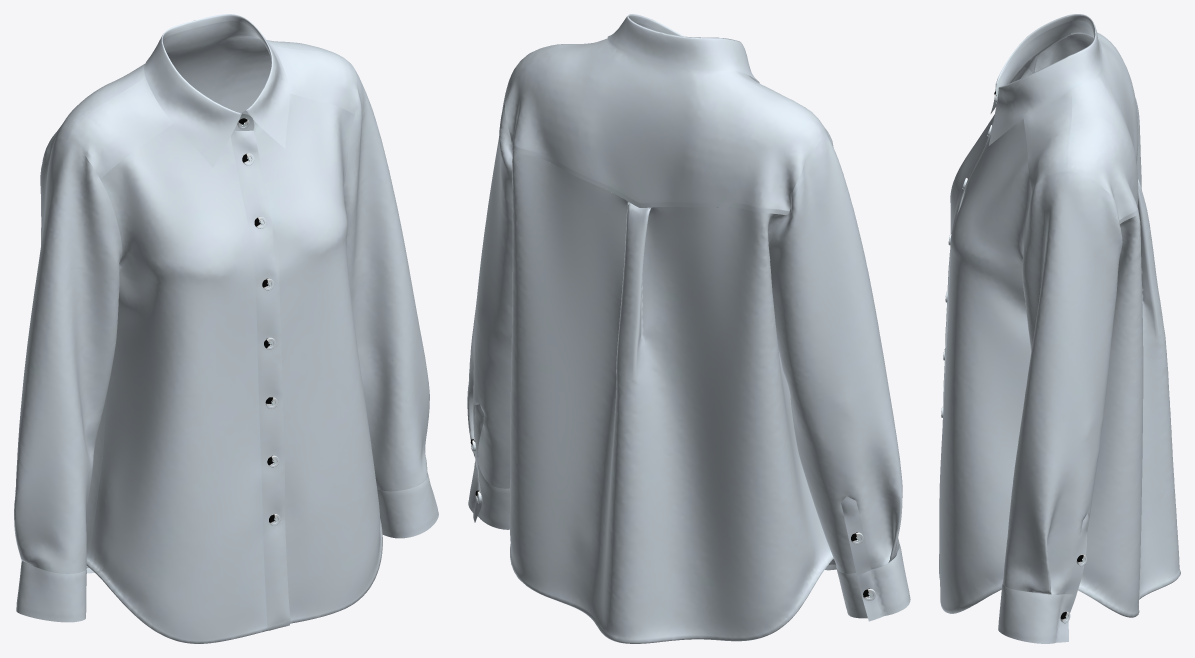
The model's file is women1.glb.
3 renders of one model, left to right at view 1: azimuth 30°, elevation 25°; view 2: azimuth 150°, elevation 25°; view 3: azimuth 270°, elevation 25°, orthographic. The views are drawn at different scales.
Visible parts, largest first — view 1: Cloth, Node #2; view 2: Cloth; view 3: Cloth, Node #2.
Boxes of the visible parts, box(x1,y1,x2,y2) form: Cloth: box(14, 14, 438, 643); Node #2: box(237, 118, 280, 525); Cloth: box(467, 14, 910, 643); Cloth: box(939, 14, 1180, 643); Node #2: box(941, 91, 1086, 623).
Bounding box in the file's own units: 56.1 × 71.27 × 28.64.
2 materials, 2 textured.
